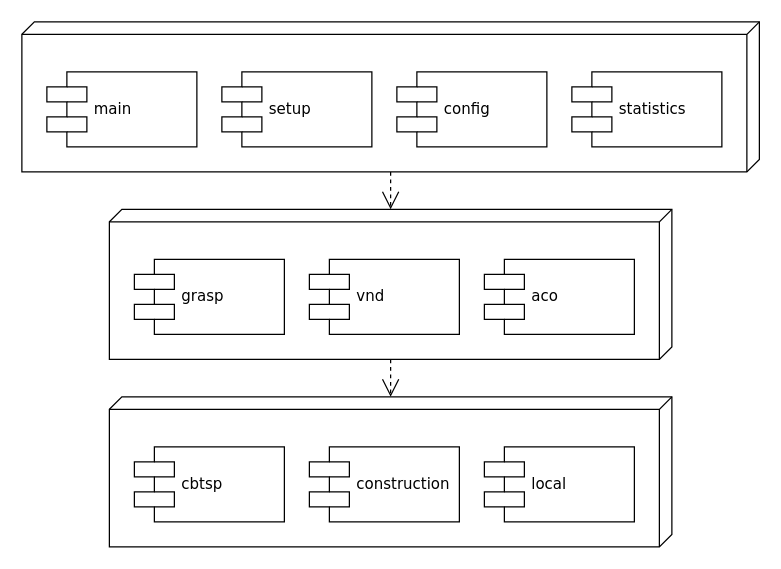
This 781x569 diagram has some shape labels left out. Here are the shapes that lost their labels. From the top down, the box of each, then its label:
(21, 21, 759, 172): Runner and Infrastructure
(108, 208, 672, 359): Metaheuristics
(108, 396, 672, 547): Basic Definitions and Operations
